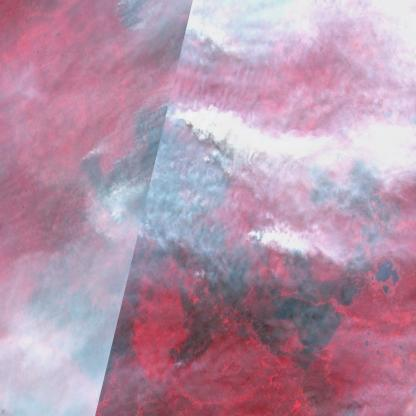fire: (159, 102, 219, 160), (115, 0, 152, 37), (75, 140, 105, 175), (247, 222, 276, 250)
